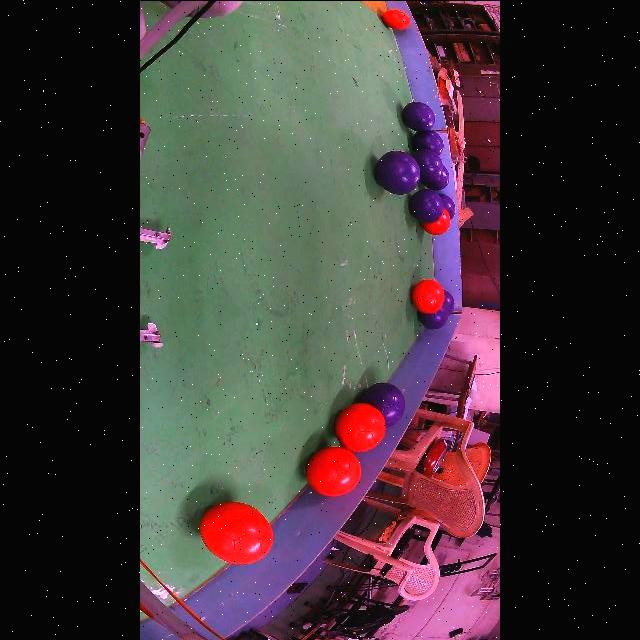P: (361, 381, 405, 426), (375, 150, 420, 194), (418, 289, 455, 329), (409, 188, 444, 222), (411, 148, 442, 181), (401, 100, 435, 130), (412, 129, 444, 154), (421, 165, 450, 190), (439, 192, 455, 218)
R: (200, 501, 274, 562), (306, 445, 361, 495), (335, 401, 386, 450), (411, 279, 445, 312), (420, 208, 450, 234), (382, 9, 410, 28)
